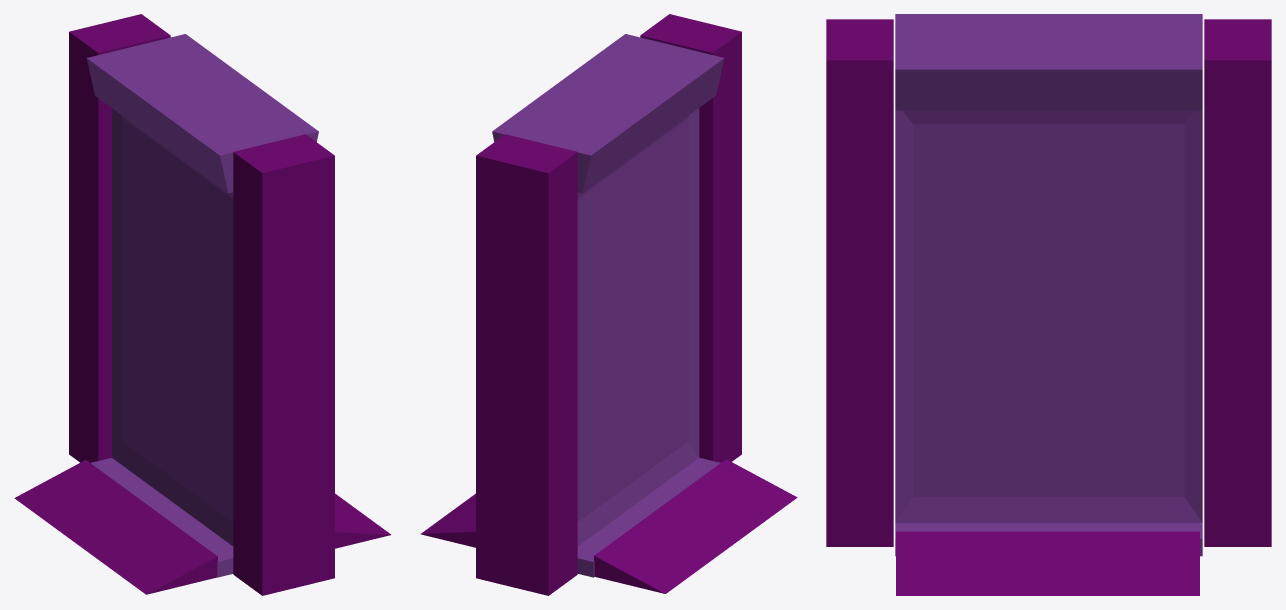
The model's file is Door.fbx.
3 renders of one model, left to right at view 1: azimuth 30°, elevation 25°; view 2: azimuth 150°, elevation 25°; view 3: azimuth 270°, elevation 25°, orthographic. The views are drawn at different scales.
Parts seen in each view (by area): view 1: pCube5; view 2: pCube5; view 3: pCube5.
Boxes of the visible parts, left/top/right/bottom form: pCube5: left=14, top=14, right=391, bottom=595; pCube5: left=420, top=14, right=797, bottom=595; pCube5: left=826, top=14, right=1271, bottom=595.
Bounding box in the file's own units: 122 × 201 × 167.
